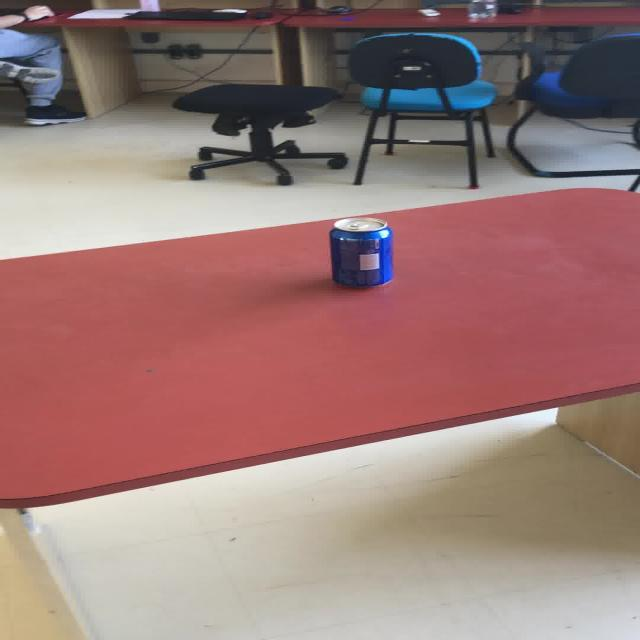tonic: (328, 216, 393, 287)
